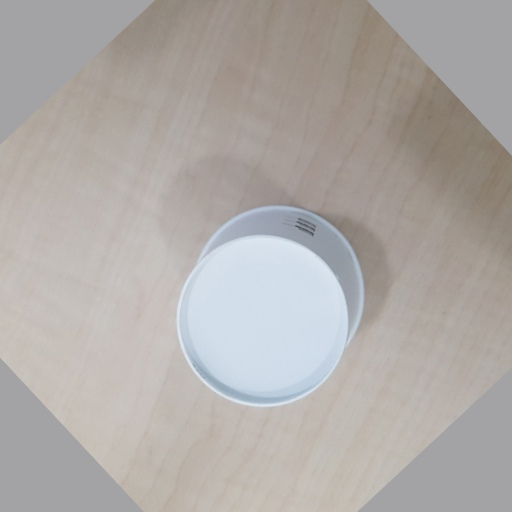Paper_1: (172, 203, 372, 407)
